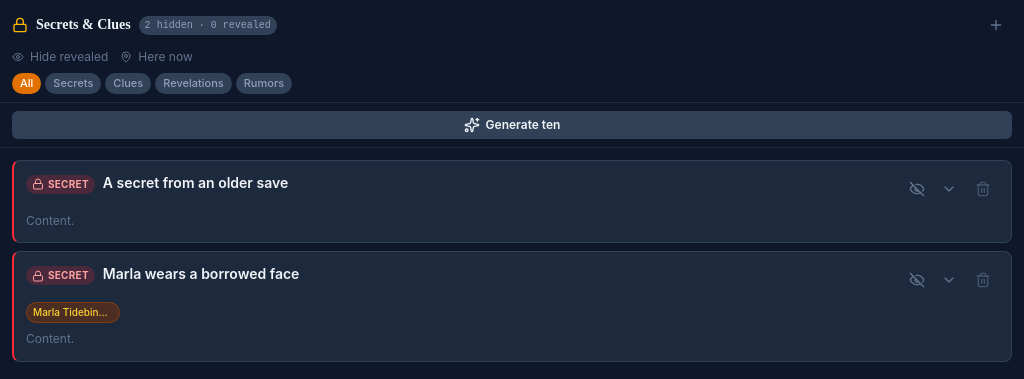
Test: SecretsTracker — the here-now filter narrows to the live scene › drops a secret that carries no linkedEntityIds field at all
The image size is (1024, 379).
Click the button "Here now" at (156, 57), box [120,49,193,65]
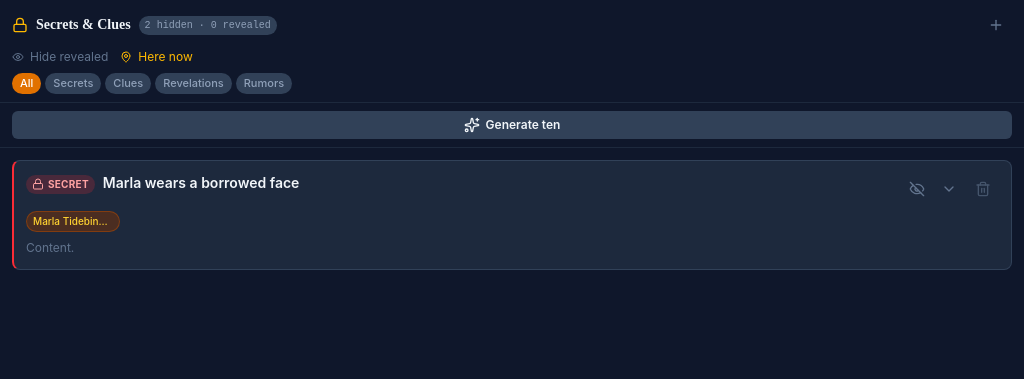
Check: the button "Marla wears a borrowed face" is shown, box [103,172,895,192]
Check: the button "A secret from an older save" is gone
